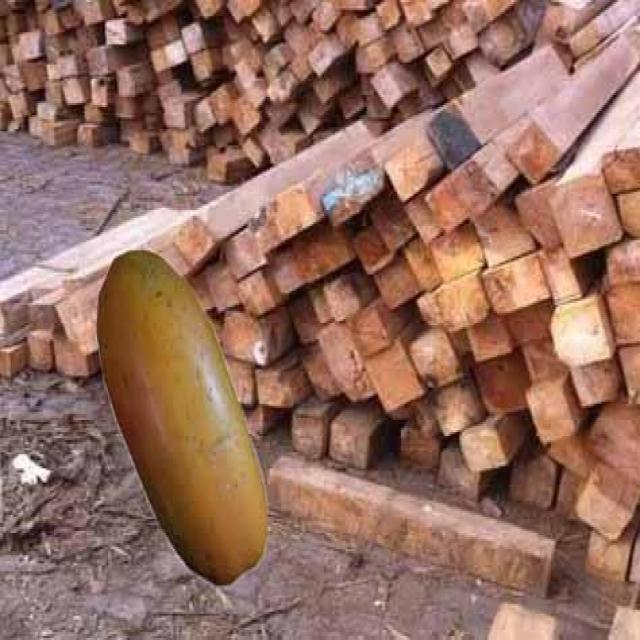Pepaya rippen: (89, 236, 277, 602)
